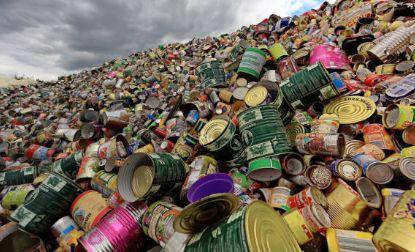metal: (3, 108, 201, 252), (193, 50, 348, 182), (174, 194, 300, 252), (8, 171, 85, 238), (11, 171, 83, 237), (78, 198, 151, 252), (118, 152, 187, 204), (116, 152, 185, 200), (237, 103, 293, 159), (2, 152, 79, 190), (279, 62, 338, 111), (173, 193, 239, 235), (322, 178, 375, 230), (237, 105, 291, 156), (372, 190, 415, 251), (282, 186, 331, 238), (279, 60, 332, 100), (140, 199, 185, 246), (201, 116, 244, 163), (366, 22, 414, 63), (178, 156, 218, 205), (69, 190, 112, 233), (323, 94, 376, 124), (9, 201, 50, 236), (324, 227, 378, 252), (295, 132, 347, 157), (243, 137, 287, 164), (310, 44, 352, 72), (347, 153, 387, 182), (73, 107, 105, 143), (0, 227, 45, 252), (76, 142, 104, 181), (243, 80, 281, 108), (237, 47, 269, 80), (236, 47, 267, 80), (195, 60, 229, 90), (246, 157, 283, 183), (48, 152, 82, 180), (362, 123, 396, 151), (1, 183, 36, 210), (383, 103, 415, 131), (355, 176, 383, 208), (1, 164, 37, 188), (385, 156, 415, 184), (384, 73, 415, 100), (172, 132, 200, 160), (90, 169, 119, 196), (381, 188, 406, 218), (277, 53, 303, 80), (306, 164, 334, 189), (266, 186, 293, 211), (222, 147, 249, 170), (335, 159, 363, 181), (101, 109, 130, 130), (281, 153, 306, 176), (227, 38, 249, 63), (365, 72, 399, 88), (183, 100, 211, 119), (97, 137, 119, 160), (26, 143, 54, 161), (230, 169, 251, 192), (310, 118, 340, 134), (394, 127, 414, 151), (382, 152, 406, 170), (268, 42, 289, 62), (278, 98, 294, 123), (375, 2, 395, 22), (343, 139, 365, 157), (270, 90, 285, 116), (115, 134, 130, 158), (55, 128, 78, 143), (83, 140, 102, 158), (307, 100, 325, 119), (292, 47, 311, 65), (80, 122, 98, 140), (79, 108, 100, 123), (370, 20, 391, 35), (274, 17, 293, 33), (293, 110, 312, 126), (375, 63, 398, 76), (357, 42, 375, 57), (232, 86, 250, 101), (261, 69, 280, 83), (133, 143, 155, 155), (395, 60, 414, 73), (109, 99, 128, 111), (185, 110, 200, 125), (218, 89, 234, 103), (193, 119, 207, 135), (159, 139, 175, 153), (144, 96, 161, 109), (208, 90, 221, 105), (154, 126, 169, 139), (36, 130, 49, 144), (257, 44, 271, 56), (103, 79, 117, 88)
